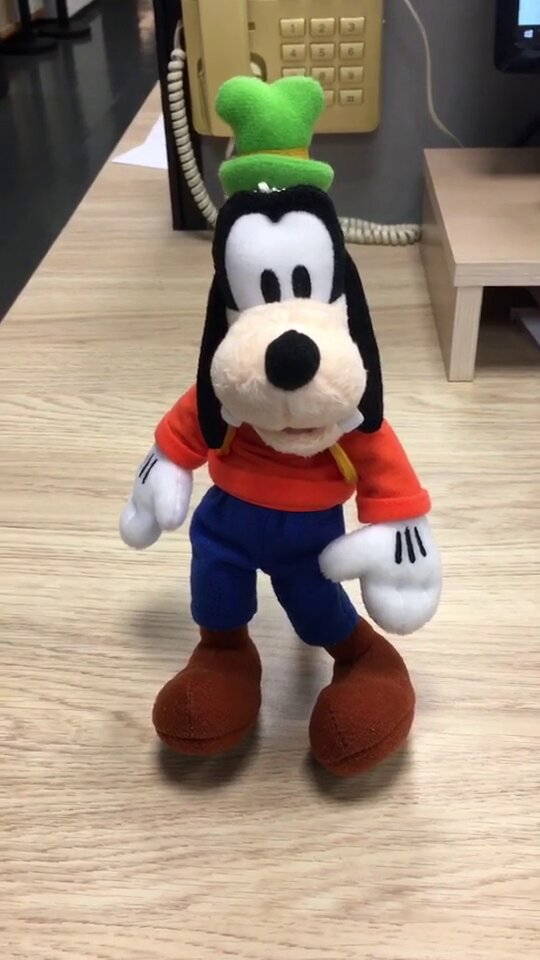goofy: (117, 70, 446, 783)
